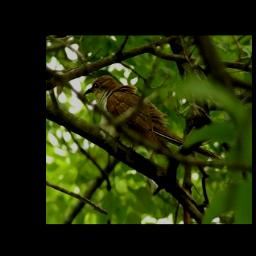Cuckoo: (83, 73, 223, 162)
